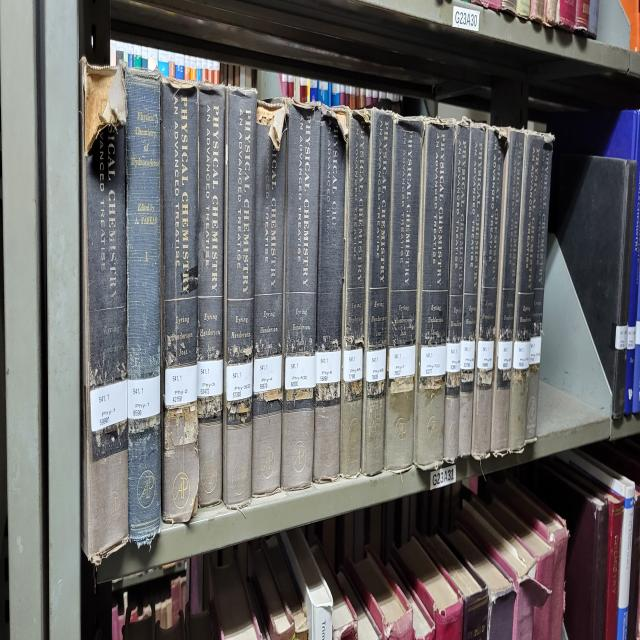Book: (80, 57, 129, 563), (125, 68, 161, 547), (160, 81, 199, 522), (281, 100, 321, 490), (222, 87, 256, 509), (384, 116, 424, 471), (414, 119, 454, 471), (251, 100, 286, 495), (312, 108, 348, 482), (471, 127, 508, 460), (490, 127, 525, 455), (361, 108, 392, 476), (198, 84, 225, 506), (509, 130, 544, 452), (340, 111, 370, 476), (525, 133, 554, 444), (444, 122, 470, 463), (459, 124, 485, 457)
Label: (90, 379, 128, 430), (165, 363, 198, 406), (128, 376, 160, 419), (285, 354, 316, 390), (254, 354, 281, 395), (226, 363, 252, 400), (198, 360, 222, 398), (389, 344, 415, 379), (316, 349, 341, 384), (420, 344, 446, 376), (366, 349, 386, 381), (344, 349, 362, 381), (512, 341, 530, 371), (478, 341, 494, 371), (460, 341, 475, 371), (446, 344, 461, 373), (498, 341, 512, 371), (530, 335, 541, 365)
